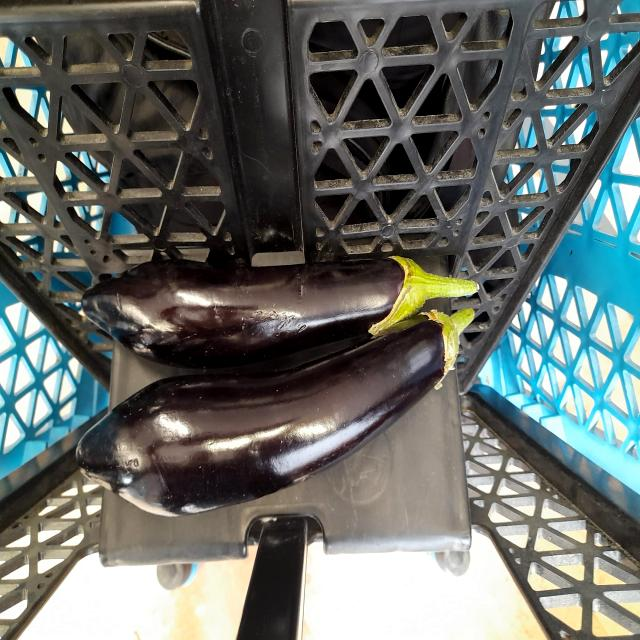eggplant: (66, 294, 484, 520), (74, 248, 473, 362)
